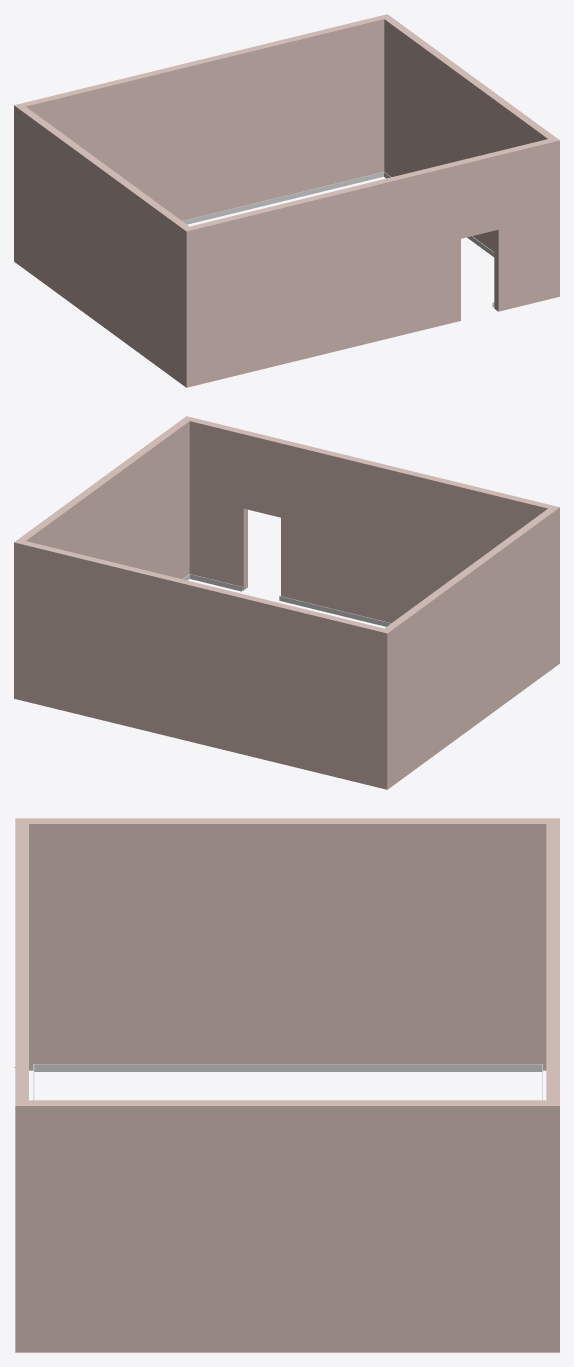
Rendered from cafeteria.fbx.
The picture shows the model from 3 angles, top to bottom: view 1: azimuth 30°, elevation 25°; view 2: azimuth 150°, elevation 25°; view 3: azimuth 270°, elevation 25°; orthographic projection. The views are drawn at different scales.
Parts seen in each view (by area): view 1: Room, Baseboard; view 2: Room, Baseboard; view 3: Room, Baseboard.
Boxes of the visible parts, x1,y1,x2,y2 form: Room: [14, 14, 559, 387]; Baseboard: [182, 171, 494, 307]; Room: [14, 416, 559, 789]; Baseboard: [182, 574, 391, 626]; Room: [15, 818, 559, 1352]; Baseboard: [33, 1064, 542, 1100].
Size of the model in its own units: 1000 by 400 by 802.
